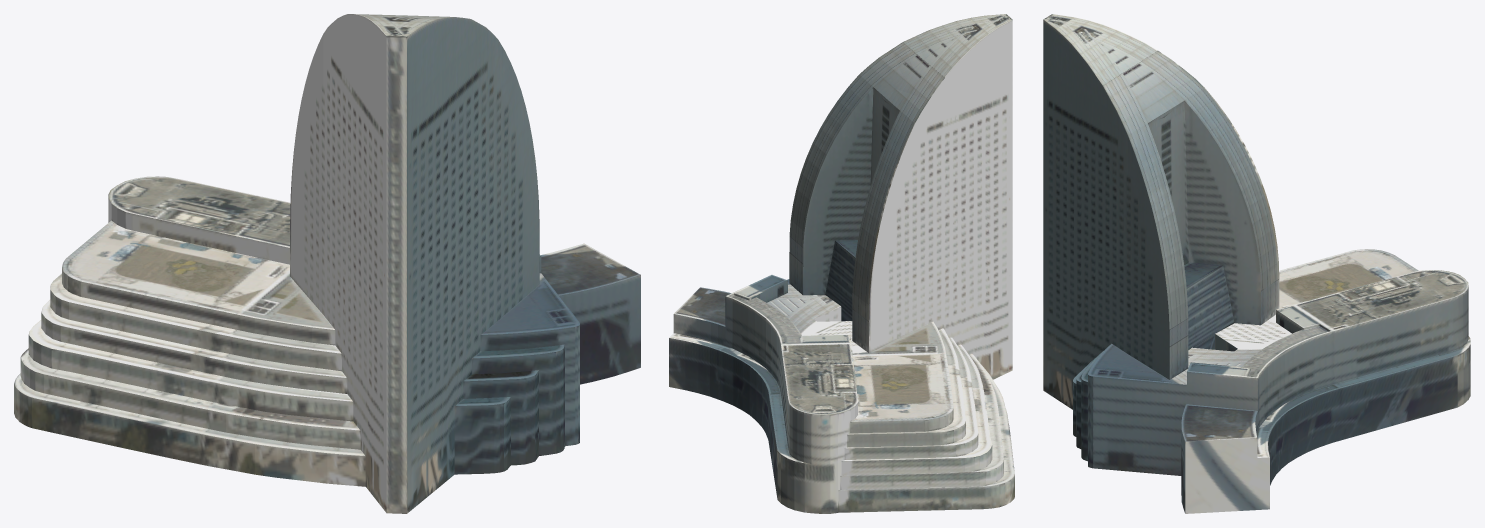
File: unityexport1.obj
3 views of the same model, side by side, from view 1: azimuth 30°, elevation 25°; view 2: azimuth 150°, elevation 25°; view 3: azimuth 270°, elevation 25° (orthographic). The views are drawn at different scales.
Parts seen in each view (by area): view 1: Baked Mesh 446; view 2: Baked Mesh 446; view 3: Baked Mesh 446.
Boxes of the visible parts, box(x1,y1,x2,y2) form: Baked Mesh 446: box(14, 14, 640, 513); Baked Mesh 446: box(669, 14, 1014, 513); Baked Mesh 446: box(1043, 14, 1470, 513).
Bounding box in the file's own units: 163 × 142 × 148.
